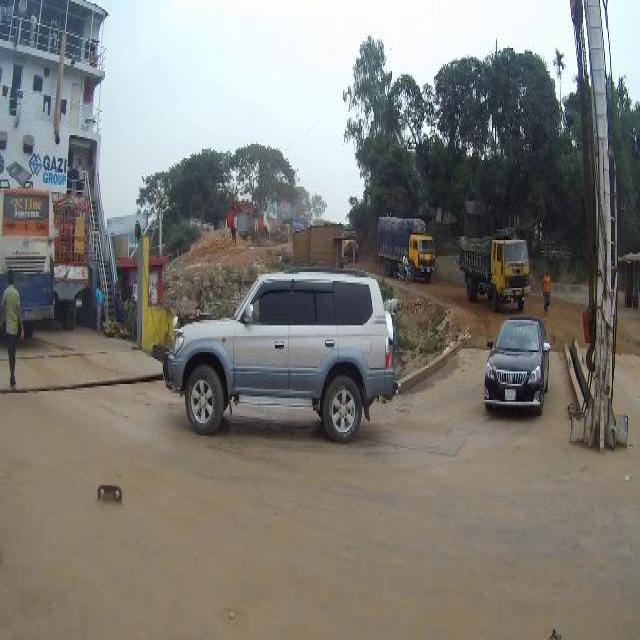bus: (0, 184, 54, 335)
car: (483, 316, 549, 414)
motorbike: (397, 252, 409, 282)
suv: (164, 266, 400, 444)
truck: (456, 229, 530, 311), (54, 195, 88, 328), (376, 214, 436, 280), (344, 230, 358, 262), (278, 218, 294, 241)
